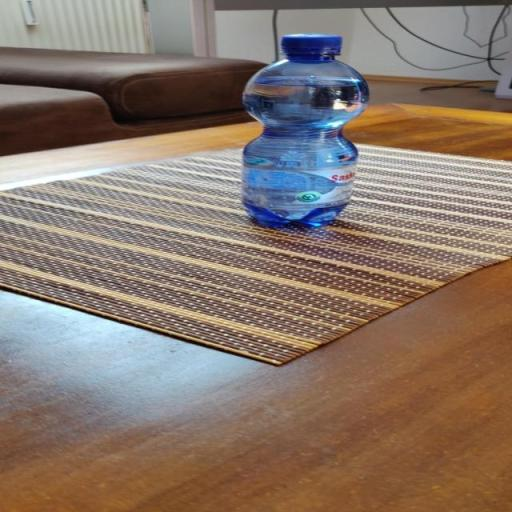plastic: (237, 32, 369, 229)
